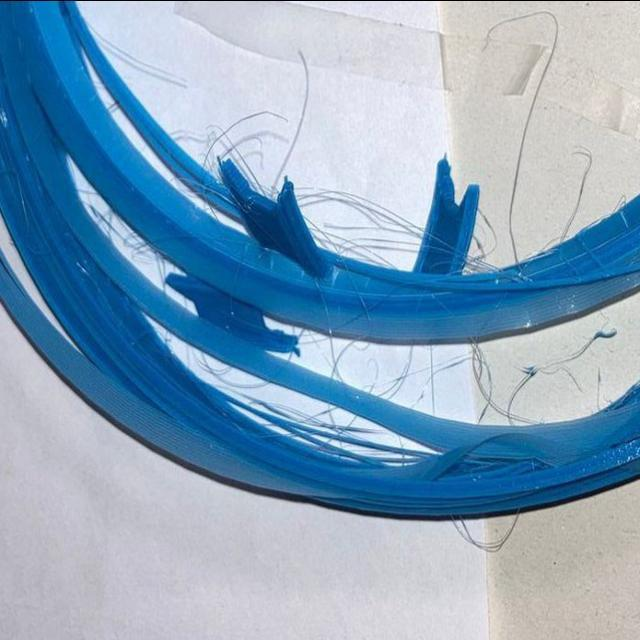Stringing: (305, 193, 423, 256), (462, 346, 544, 421), (286, 410, 368, 448), (326, 335, 356, 383)
